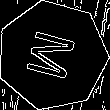M_E: (22, 27, 84, 84)
